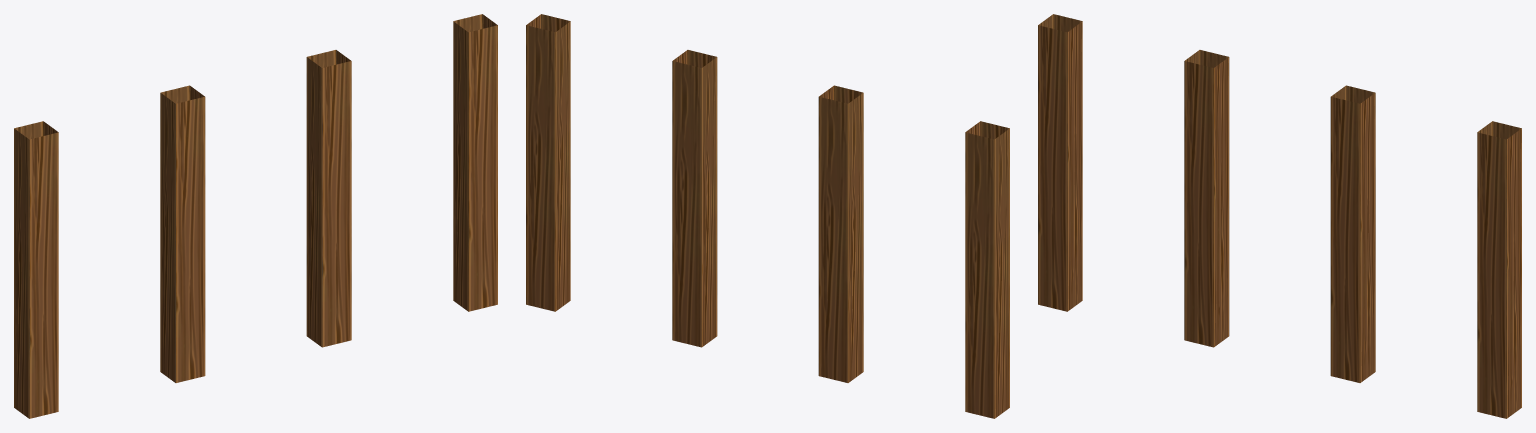
The picture shows the model from 3 angles, left to right: view 1: azimuth 30°, elevation 25°; view 2: azimuth 150°, elevation 25°; view 3: azimuth 330°, elevation 25°; orthographic projection.
Parts seen in each view (by area): view 1: Cube.1831; view 2: Cube.1831; view 3: Cube.1831.
Boxes of the visible parts, x1,y1,x2,y2 form: Cube.1831: [14, 14, 497, 418]; Cube.1831: [526, 14, 1009, 418]; Cube.1831: [1038, 14, 1521, 418].
Size of the model in its own units: 239 by 136 by 13.56.
1 material, 1 textured.
